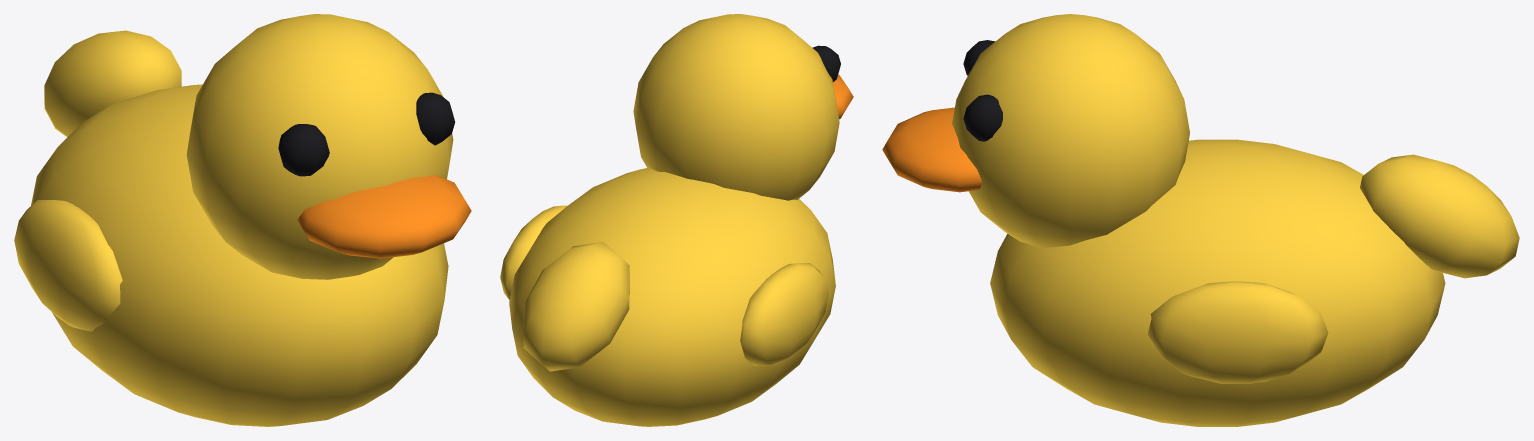
File: RubberDuck.fbx
3 views of the same model, side by side, from view 1: azimuth 30°, elevation 25°; view 2: azimuth 150°, elevation 25°; view 3: azimuth 270°, elevation 25° (orthographic). The views are drawn at different scales.
Parts seen in each view (by area): view 1: Body.006, Head, Beak, Wing, Tail, Eye, Eye.001; view 2: Body.006, Head, Tail, Wing, Wing.001, Eye, Beak; view 3: Body.006, Head, Wing.001, Tail, Beak, Eye.001.
Boxes of the visible parts, x1,y1,x2,y2 form: Body.006: (31, 84, 448, 426); Head: (186, 14, 453, 279); Beak: (297, 175, 471, 258); Wing: (14, 200, 122, 331); Tail: (44, 30, 181, 137); Eye: (278, 124, 329, 176); Eye.001: (416, 92, 455, 145); Body.006: (509, 167, 835, 426); Head: (633, 14, 839, 200); Tail: (523, 242, 629, 371); Wing: (740, 263, 828, 365); Wing.001: (500, 205, 567, 299); Eye: (812, 45, 840, 81); Beak: (833, 74, 853, 119); Body.006: (990, 139, 1445, 426); Head: (952, 14, 1189, 248); Wing.001: (1148, 281, 1328, 383); Tail: (1360, 154, 1519, 278); Beak: (882, 107, 981, 192); Eye.001: (963, 94, 1002, 141).
Size of the model in its own units: 0.2033 by 0.2291 by 0.3458.
